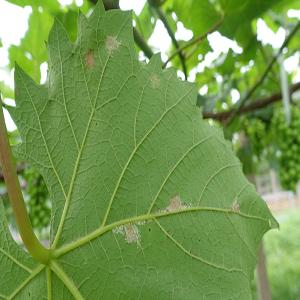Folha: (1, 1, 280, 299)
Fungo: (112, 193, 192, 245), (134, 192, 192, 226), (156, 192, 192, 214), (123, 222, 142, 244), (103, 34, 121, 56), (164, 193, 183, 212), (82, 47, 96, 70), (231, 197, 241, 213), (150, 73, 160, 89), (148, 227, 150, 232)
